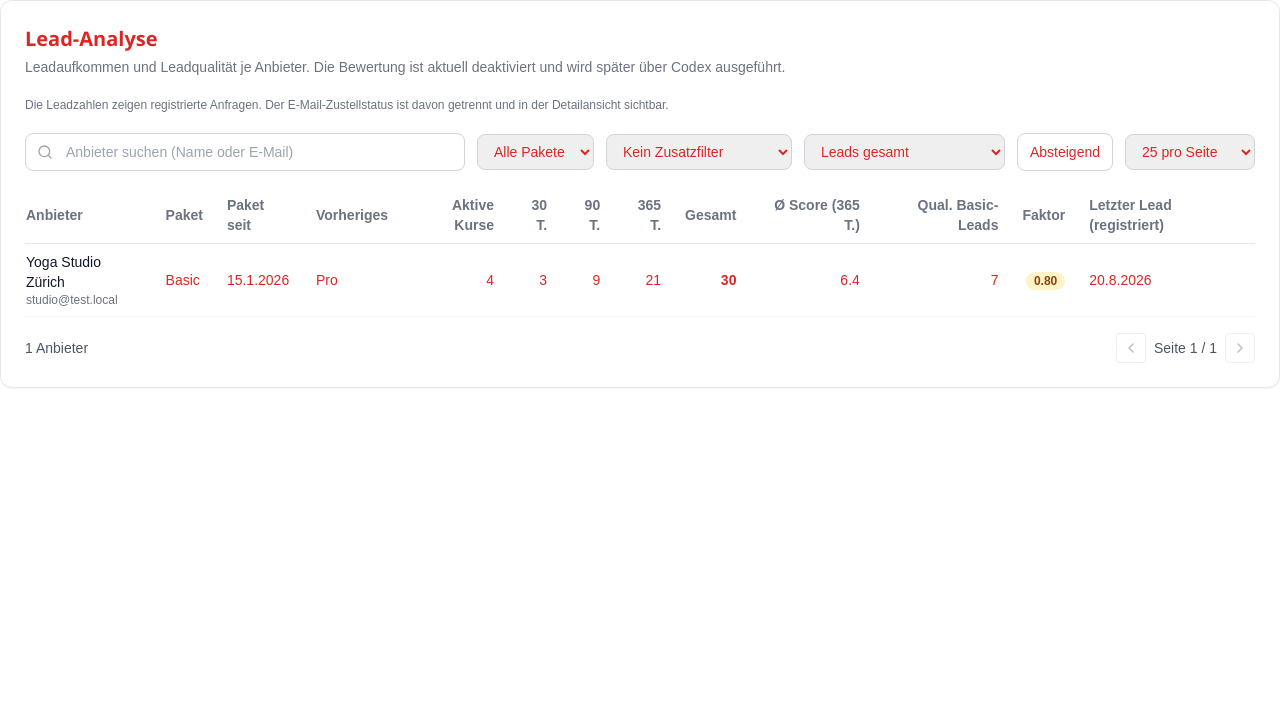
Anbieterdetail › zeigt Monatsverlauf, Kurse und Score-Verteilung
This screenshot has width=1280, height=720.
Click the text "Yoga Studio Zürich".
click(64, 272)  # box x1=26 y1=254 x2=101 y2=290
(page scrolled)
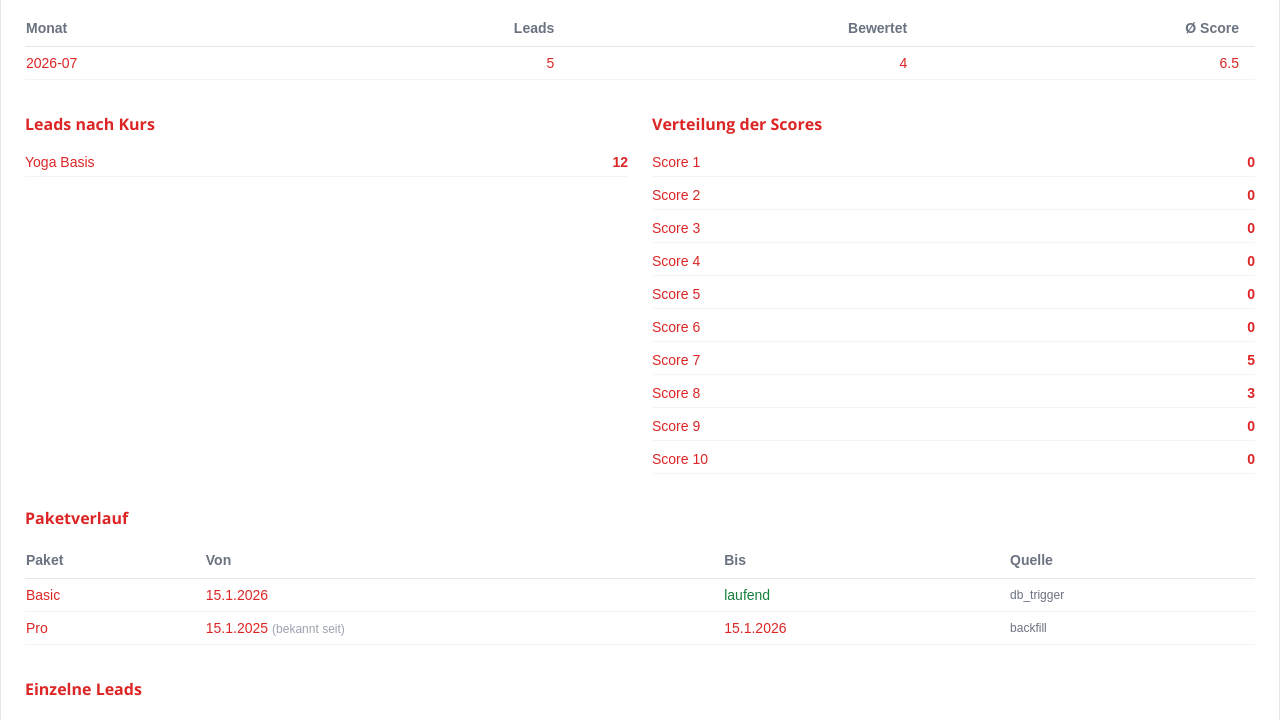
Result: the heading "Paketverlauf" is shown at x1=25 y1=507 x2=128 y2=529
Result: the text "2026-07" is shown at x1=25 y1=46 x2=290 y2=80
Result: the text "Yoga Basis" is shown at x1=25 y1=152 x2=94 y2=172
